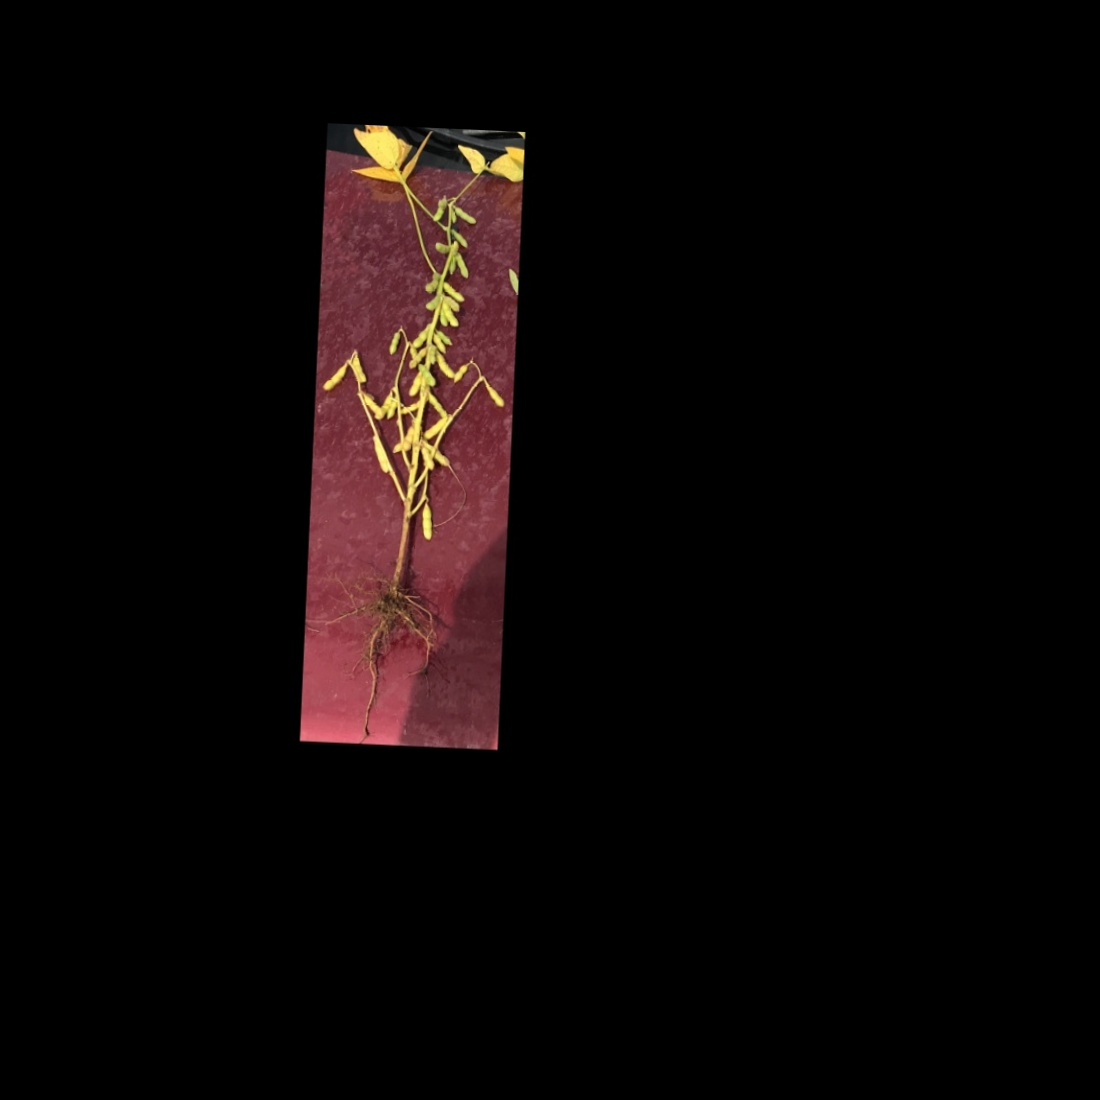pod: (321, 359, 349, 394), (359, 390, 388, 420), (348, 350, 371, 386), (449, 202, 479, 229), (482, 379, 507, 410), (419, 414, 447, 441), (417, 502, 436, 541), (425, 391, 450, 420), (372, 389, 393, 423), (439, 299, 461, 331), (405, 368, 426, 400), (452, 250, 472, 283), (439, 280, 465, 305), (435, 349, 456, 379), (394, 399, 425, 418), (448, 226, 471, 251), (449, 361, 472, 385), (409, 322, 430, 349), (385, 328, 401, 359), (432, 239, 454, 259)
soy: (305, 133, 517, 736)
